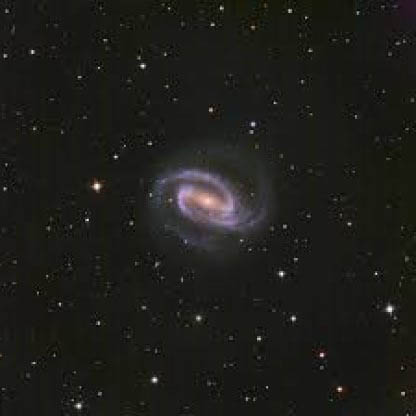NGC 1300: (133, 135, 290, 265)
